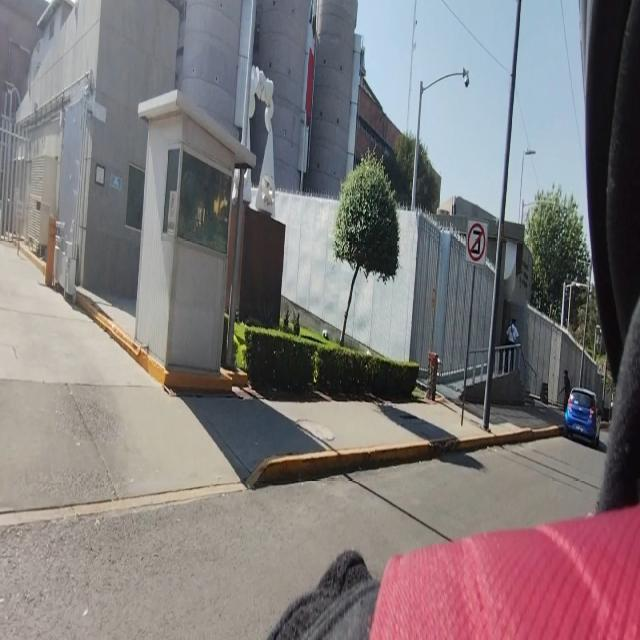adult: (506, 319, 519, 369), (558, 368, 570, 413)
